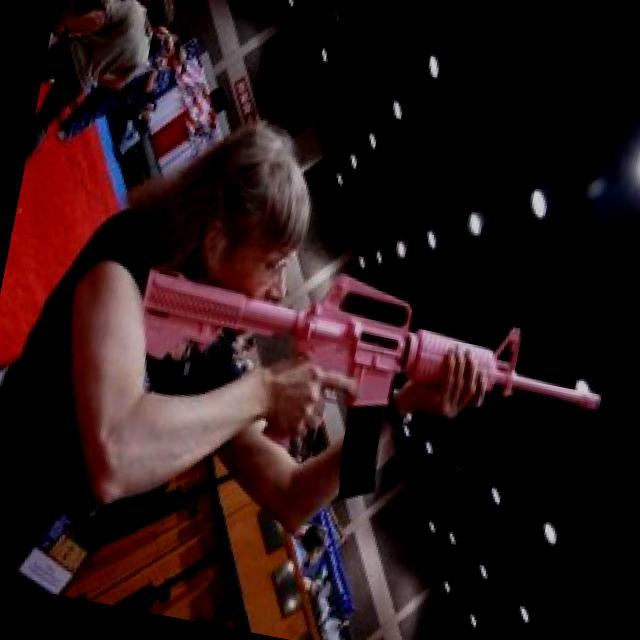long weapon: (107, 211, 626, 518)
